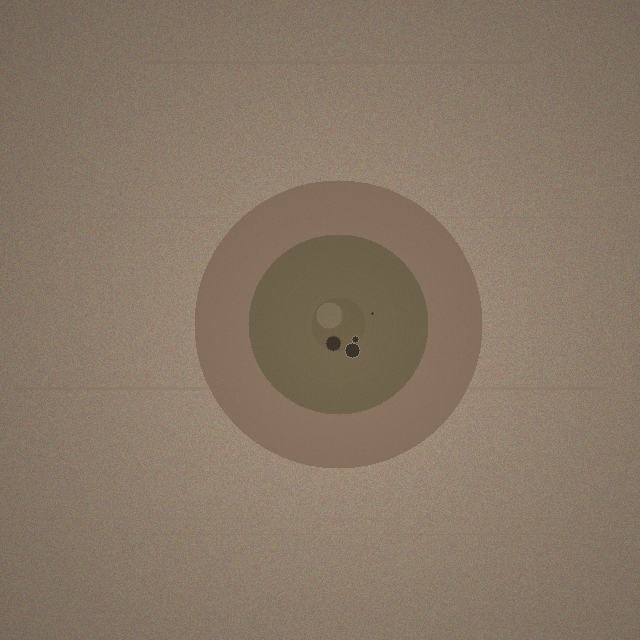shrinkage: (194, 180, 482, 468)
